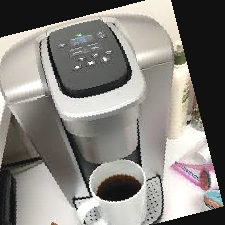10oz: (86, 60, 96, 66)
12oz: (101, 57, 111, 63)
4oz: (76, 56, 85, 62)
6oz: (91, 52, 101, 59)
8oz: (73, 64, 82, 71)
